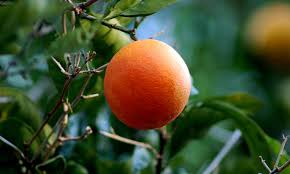orange: (102, 40, 193, 129)
